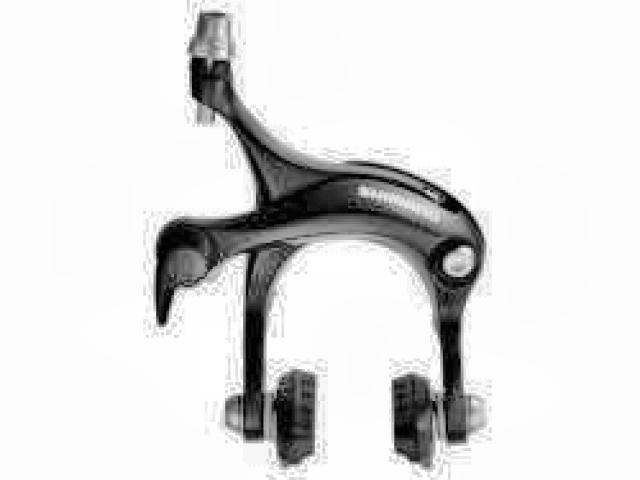rim_brake: (149, 10, 486, 473)
